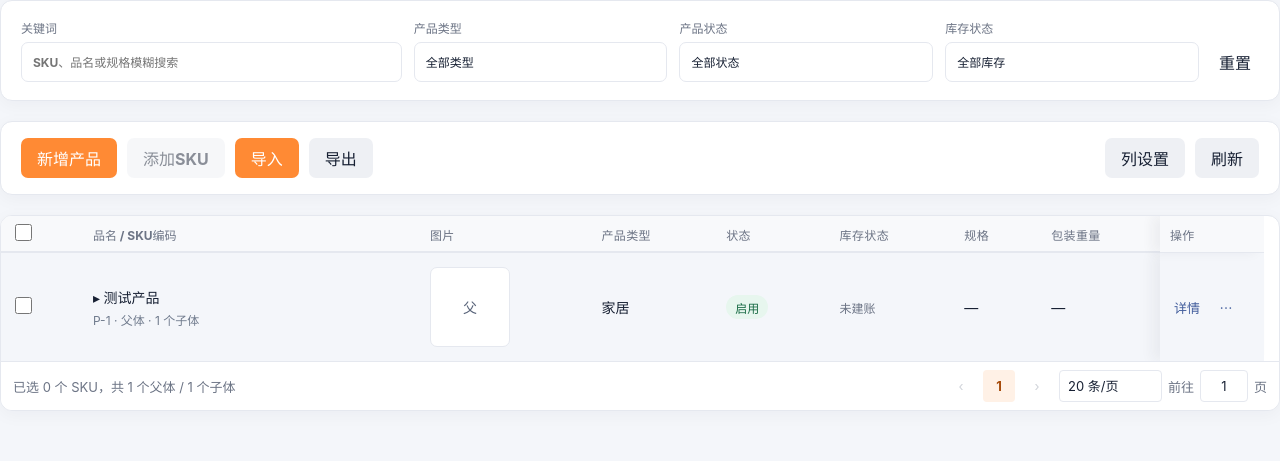
ProductsView › shows only details and more in the parent action column
The image size is (1280, 461).
What coordinates should you click on to do the following:
click the button with class "row-more-actions__trigger"
I would click on:
 (1226, 307)
Its box is x1=1212 y1=293 x2=1240 y2=321.
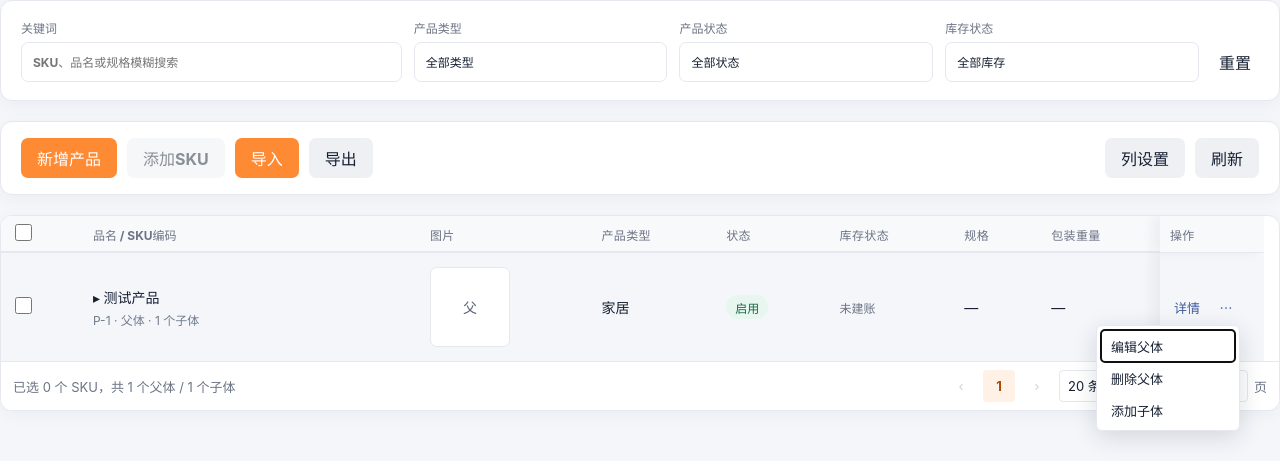
Expected: the element with class "row-more-actions__menu" is shown, x1=1096 y1=325 x2=1240 y2=431
Expected: the element with class "row-more-actions__menu" shows "删除父体", x1=1101 y1=362 x2=1235 y2=394
